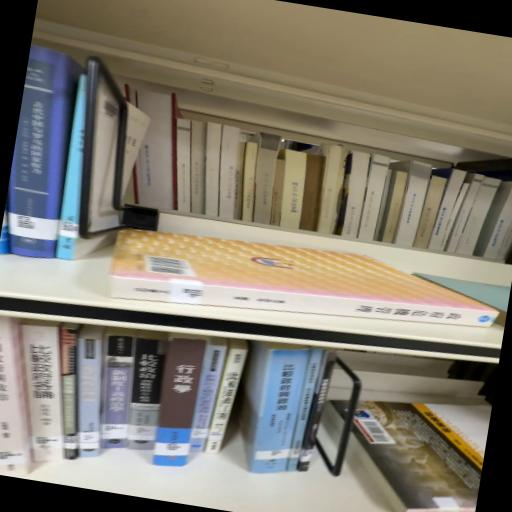flat: (108, 229, 496, 327), (346, 400, 491, 512)
